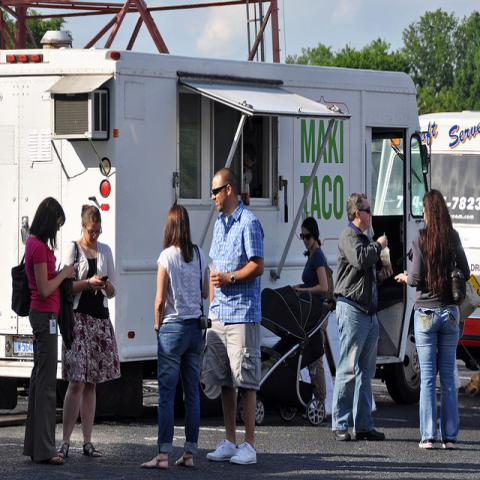truck: (2, 45, 431, 407)
